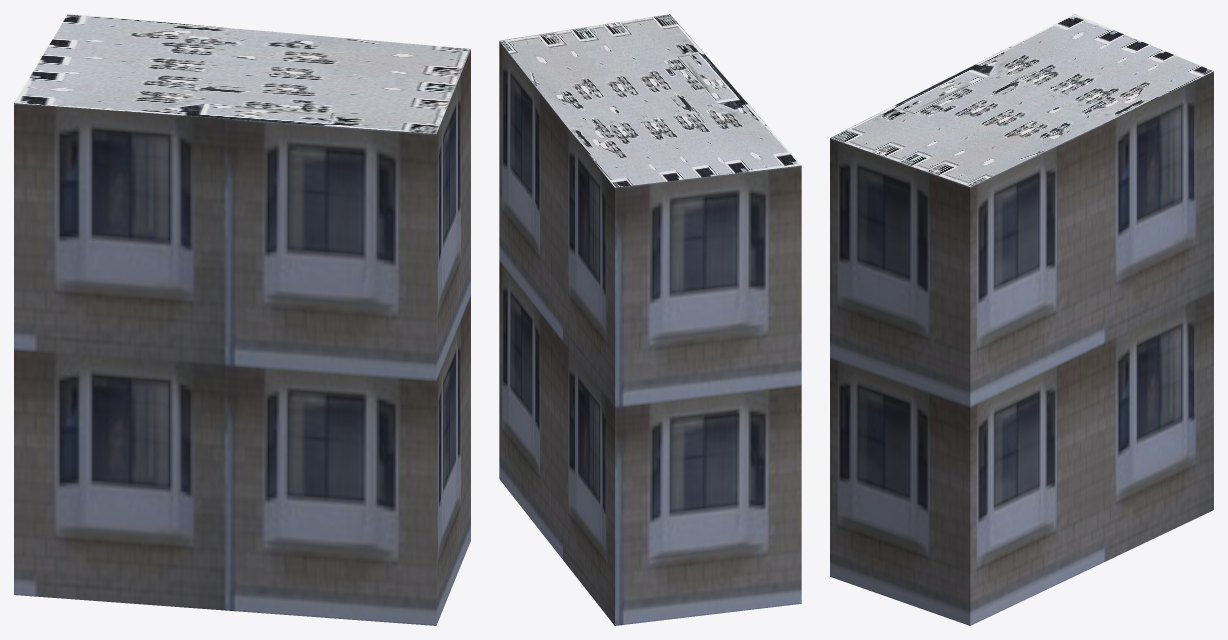
The model's file is ResTex__458.fbx.
3 views of the same model, side by side, from view 1: azimuth 30°, elevation 25°; view 2: azimuth 150°, elevation 25°; view 3: azimuth 270°, elevation 25° (orthographic). The views are drawn at different scales.
Visible parts, largest first — view 1: CityEngineMaterial_3_m, CityEngineMaterial_m; view 2: CityEngineMaterial_3_m, CityEngineMaterial_m; view 3: CityEngineMaterial_3_m, CityEngineMaterial_m.
Boxes of the visible parts, x1=… form: CityEngineMaterial_3_m: x1=14, y1=49, x2=470, y2=625; CityEngineMaterial_m: x1=14, y1=14, x2=470, y2=133; CityEngineMaterial_3_m: x1=499, y1=41, x2=801, y2=625; CityEngineMaterial_m: x1=499, y1=14, x2=801, y2=187; CityEngineMaterial_3_m: x1=830, y1=71, x2=1213, y2=625; CityEngineMaterial_m: x1=830, y1=14, x2=1213, y2=187.
Size of the model in its own units: 5.08 by 6 by 4.76.
2 materials, 2 textured.
